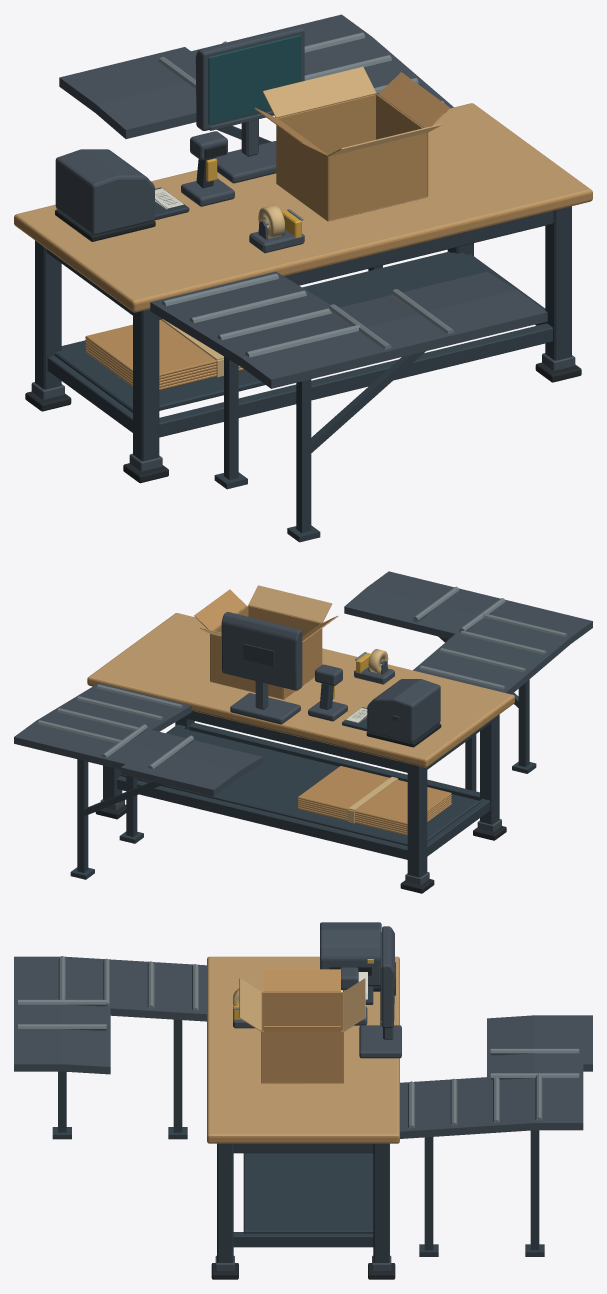
Rendered from packing-station.glb.
3 renders of one model, top to bottom at view 1: azimuth 30°, elevation 25°; view 2: azimuth 150°, elevation 25°; view 3: azimuth 270°, elevation 25°, orthographic. The views are drawn at different scales.
Visible parts, largest first — view 1: pack_station__PACK, pivot_packing_carton, pivot_carton_flap_rear, pivot_carton_flap_right, pivot_scanner; view 2: pack_station__PACK, pivot_packing_carton, pivot_carton_flap_front, pivot_carton_flap_right, pivot_scanner; view 3: pack_station__PACK, pivot_packing_carton, pivot_carton_flap_left, pivot_carton_flap_front, pivot_carton_flap_rear.
Part boxes in pixels (x1,y1,x2,y2): pack_station__PACK: [14, 14, 592, 542]; pivot_packing_carton: [276, 94, 428, 221]; pivot_carton_flap_rear: [262, 66, 376, 117]; pivot_carton_flap_right: [378, 72, 449, 127]; pivot_scanner: [190, 131, 227, 188]; pack_station__PACK: [14, 571, 592, 893]; pivot_packing_carton: [210, 605, 322, 699]; pivot_carton_flap_front: [248, 585, 332, 623]; pivot_carton_flap_right: [194, 589, 246, 630]; pivot_scanner: [315, 664, 342, 709]; pack_station__PACK: [14, 922, 592, 1279]; pivot_packing_carton: [261, 992, 343, 1083]; pivot_carton_flap_left: [264, 969, 340, 991]; pivot_carton_flap_front: [239, 978, 261, 1031]; pivot_carton_flap_rear: [343, 978, 365, 1031].
Bounding box in the file's own units: 2.2 × 1.42 × 3.
